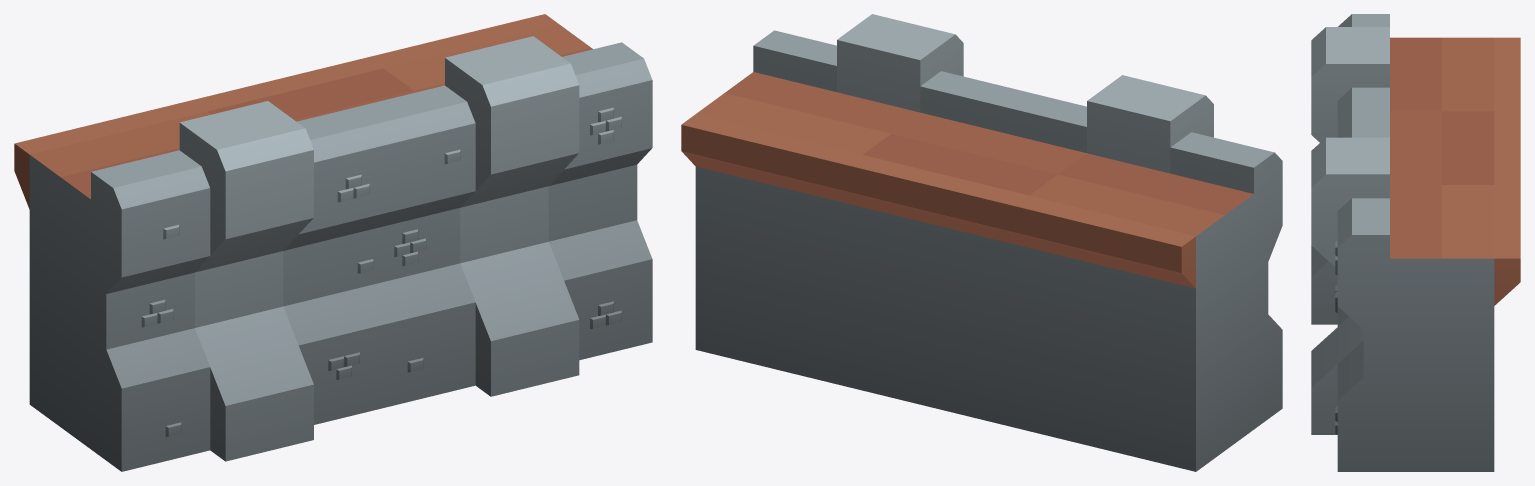
Rendered from wall.glb.
3 views of the same model, side by side, from view 1: azimuth 30°, elevation 25°; view 2: azimuth 150°, elevation 25°; view 3: azimuth 270°, elevation 25° (orthographic). The views are drawn at different scales.
Parts seen in each view (by area): view 1: wall_straight; view 2: wall_straight; view 3: wall_straight.
Boxes of the visible parts, x1=… form: wall_straight: x1=14, y1=14, x2=652, y2=471; wall_straight: x1=681, y1=14, x2=1282, y2=471; wall_straight: x1=1311, y1=14, x2=1520, y2=471.
Bounding box in the file's own units: 2 × 1.1 × 0.8.
Materials: 1 (1 with a texture image).
